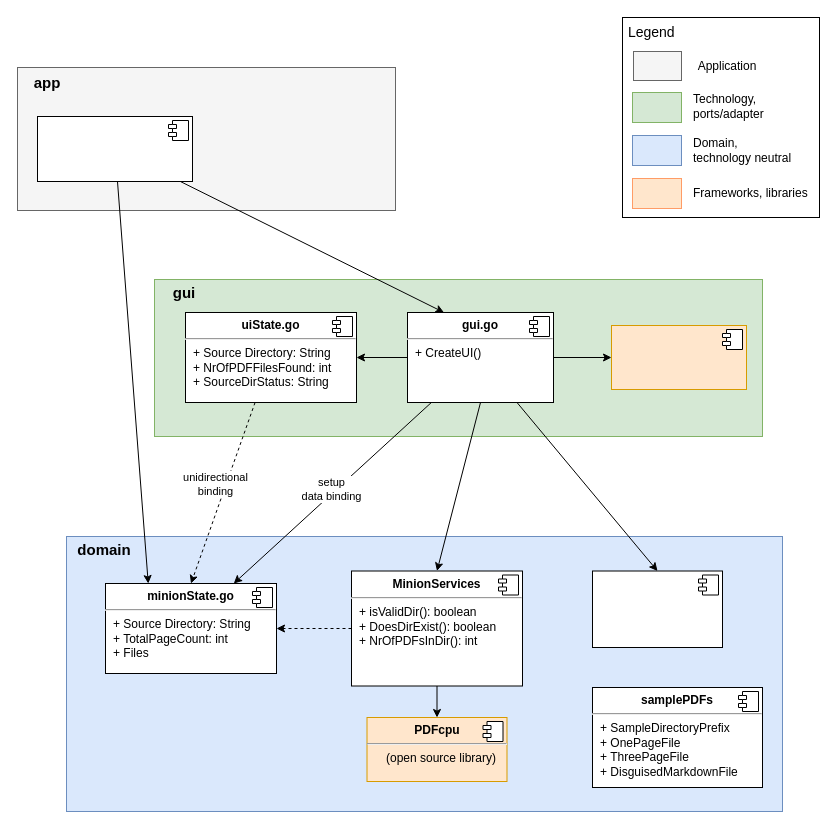
This 837x829 diagram has some shape labels left out. Here are the shapes that lost their labels. From the top down, the centre of each, then its label:
At point (114, 149): "PDFMinion App + main()".
At point (678, 357): "Fyne (open source library)".
At point (657, 609): "version + AppName: String + VersionStr: String".
